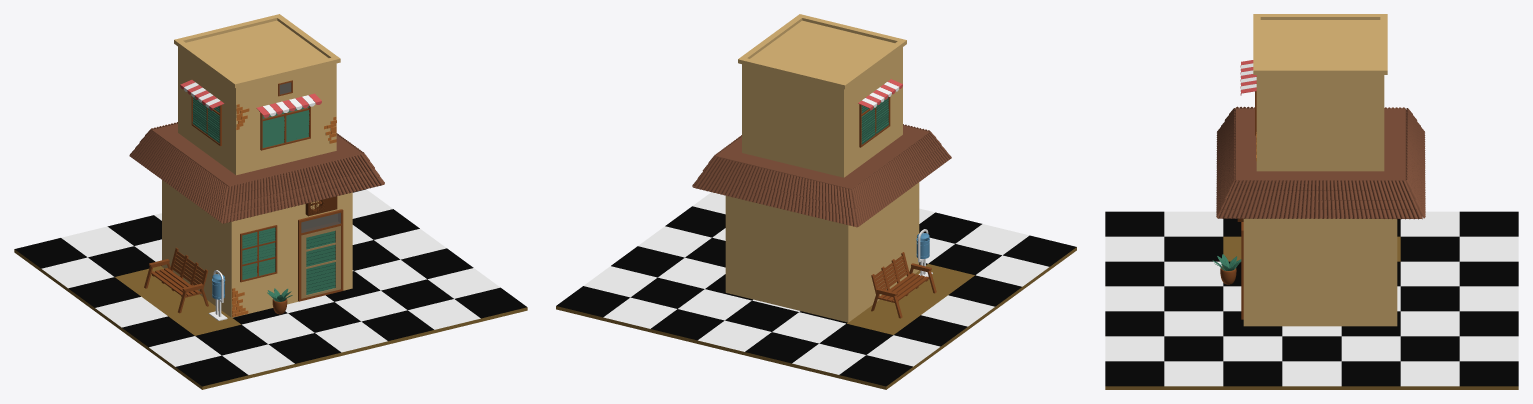
The model's file is House_Building_Blend.glb.
3 views of the same model, side by side, from view 1: azimuth 30°, elevation 25°; view 2: azimuth 150°, elevation 25°; view 3: azimuth 270°, elevation 25° (orthographic). The views are drawn at different scales.
Parts seen in each view (by area): view 1: House_Building; view 2: House_Building; view 3: House_Building.
Part boxes in pixels (bbox=[...]): House_Building: bbox=[14, 14, 527, 389]; House_Building: bbox=[556, 14, 1076, 389]; House_Building: bbox=[1105, 14, 1518, 389].
Bounding box in the file's own units: 10.6 × 7.23 × 10.6.
